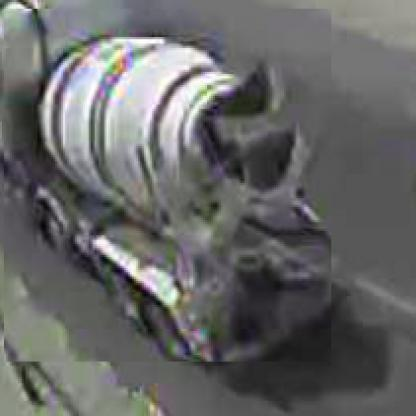truck: (5, 10, 334, 365)
